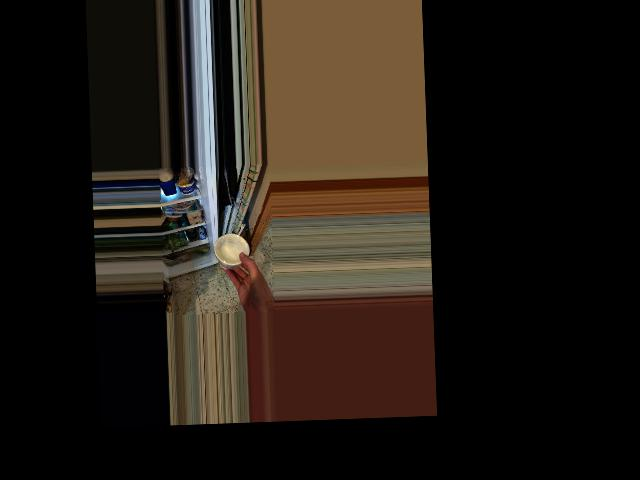cotage: (214, 231, 246, 271)
